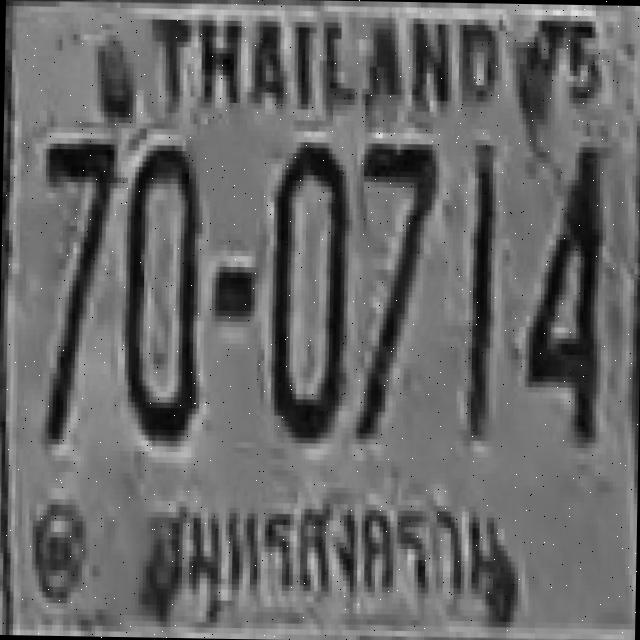0: (121, 138, 202, 436), (268, 138, 348, 436)
1: (462, 142, 497, 432)
4: (524, 140, 604, 437)
7: (356, 138, 436, 434), (39, 138, 116, 440), (41, 138, 116, 346)
SamutSongkhram: (128, 488, 510, 624)
